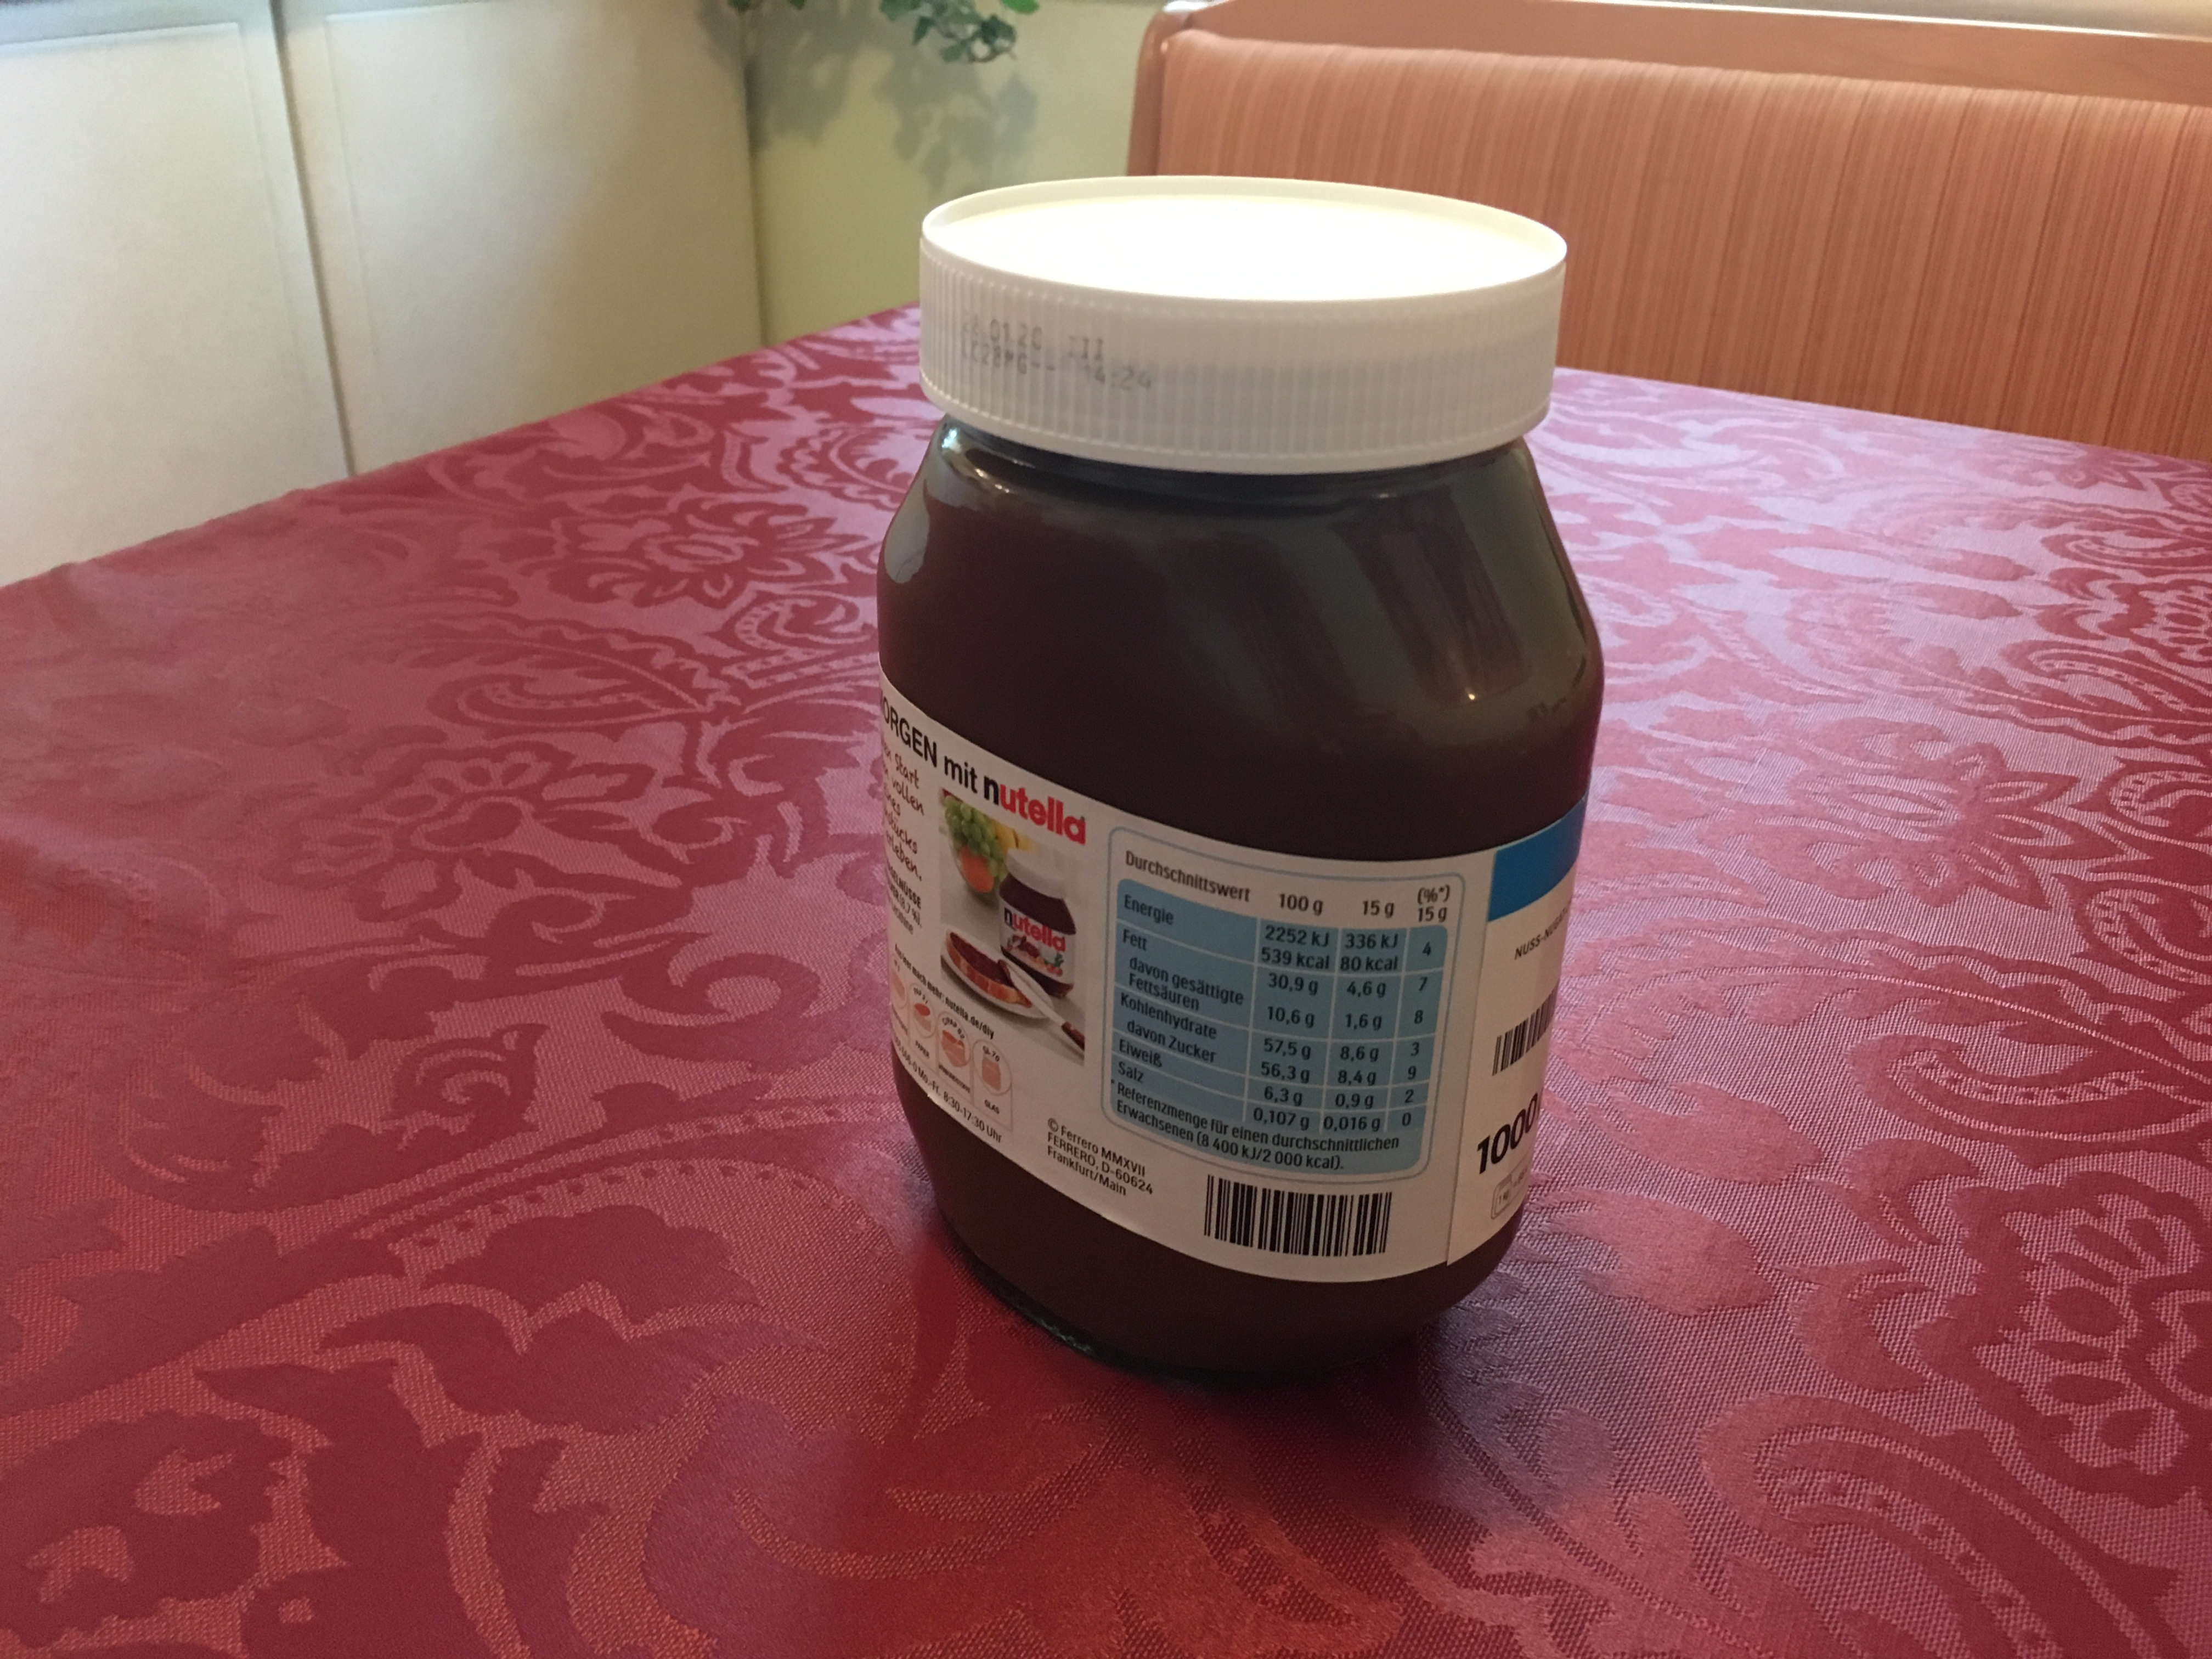nutella: (880, 174, 1606, 1387)
